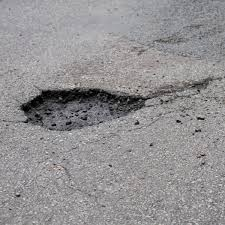pothole: (18, 87, 146, 132), (153, 77, 222, 105)
